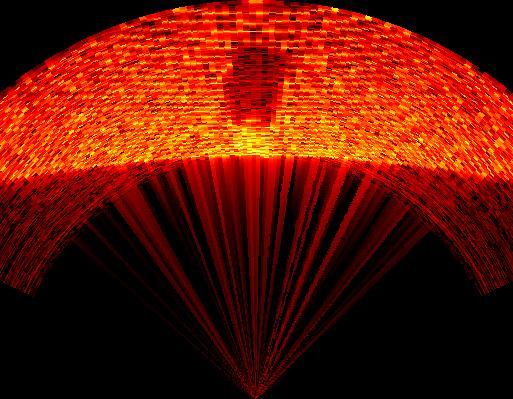box_crate: (224, 42, 301, 160)
